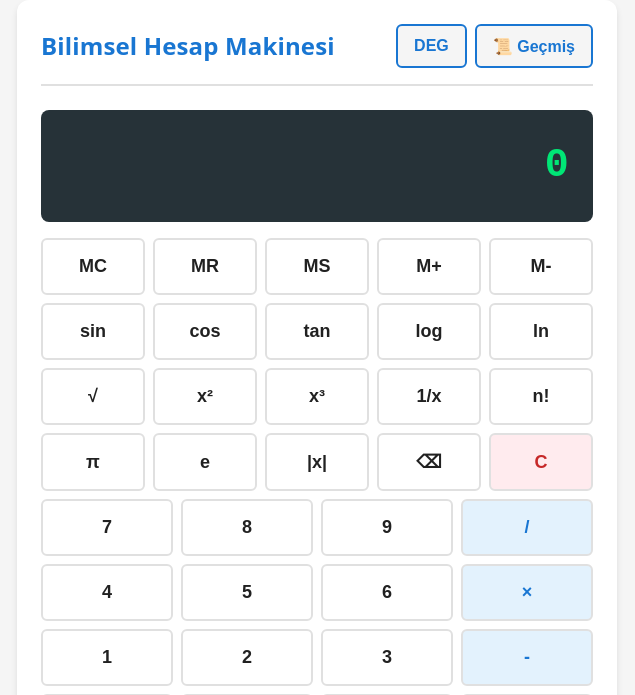
Scenario: ScientificCalculator › Basic Arithmetic Operations › should clear display
What coordinates should you click on to do the following:
click the button labelled "5"
I would click on:
 (247, 592)
Its box is [181,564,313,621].
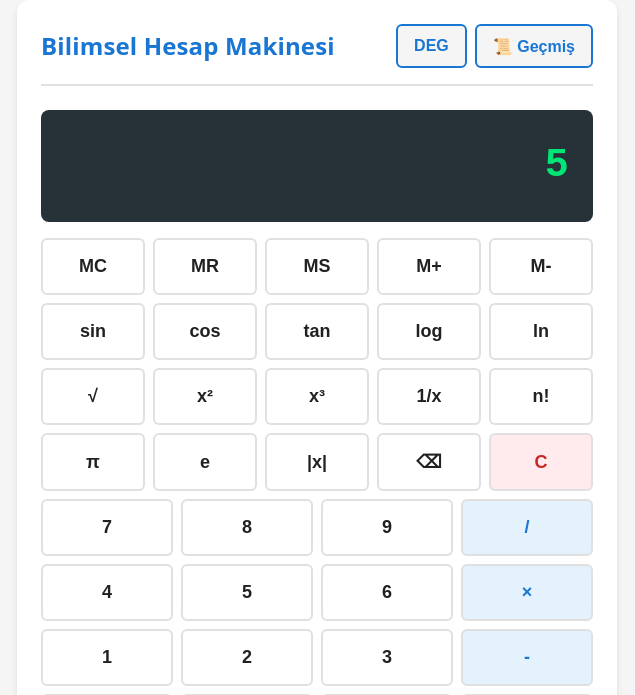
What coordinates should you click on to do the following:
click the button named "Temizle"
I would click on:
 (541, 462)
Its box is [489,433,593,491].
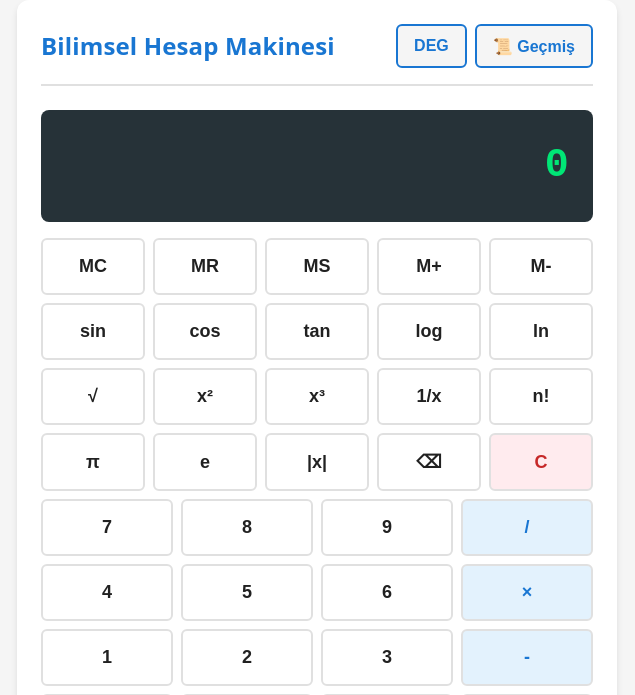
Now the text with class "main-display" reads "0", box [545,143,569,188]
